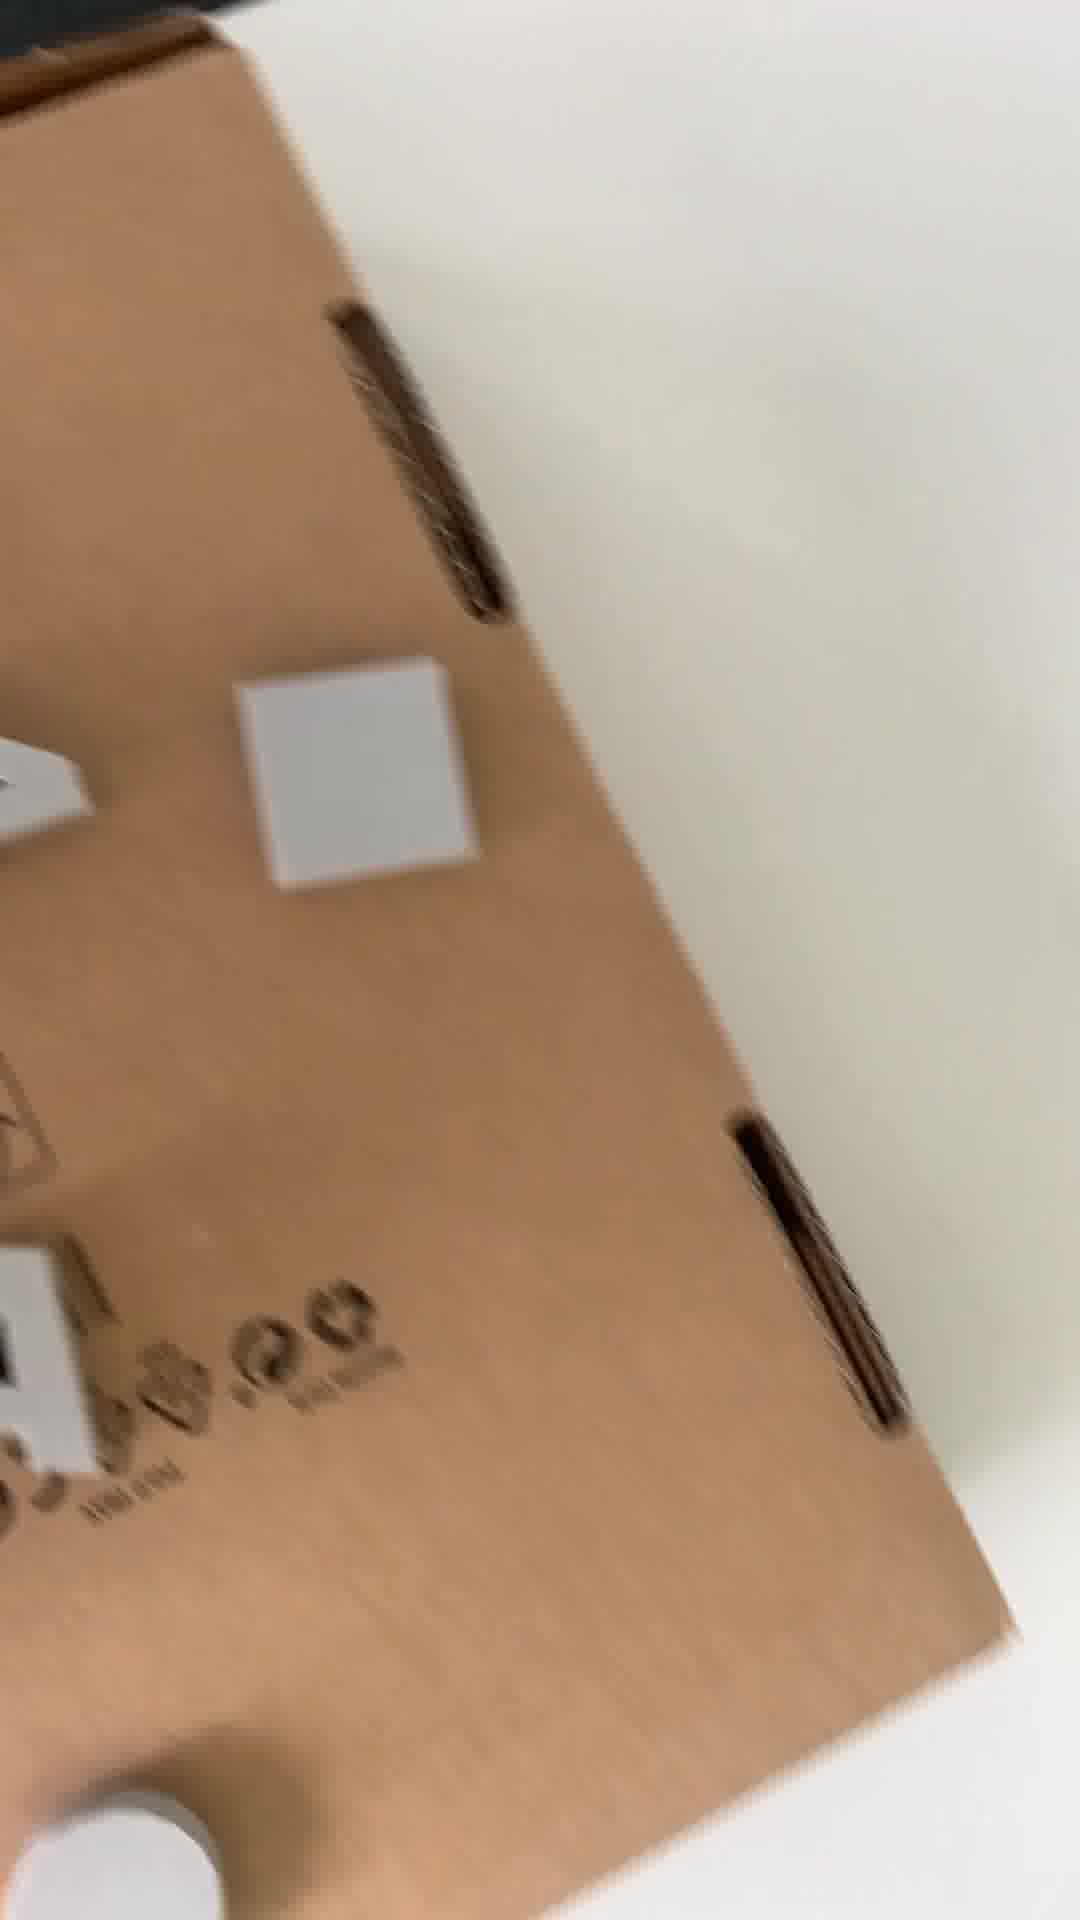Gray A-letter: (1, 1234, 104, 1497)
Gray circle: (4, 1785, 243, 1920)
Gray four: (1, 724, 96, 869)
Gray square: (239, 661, 469, 893)
